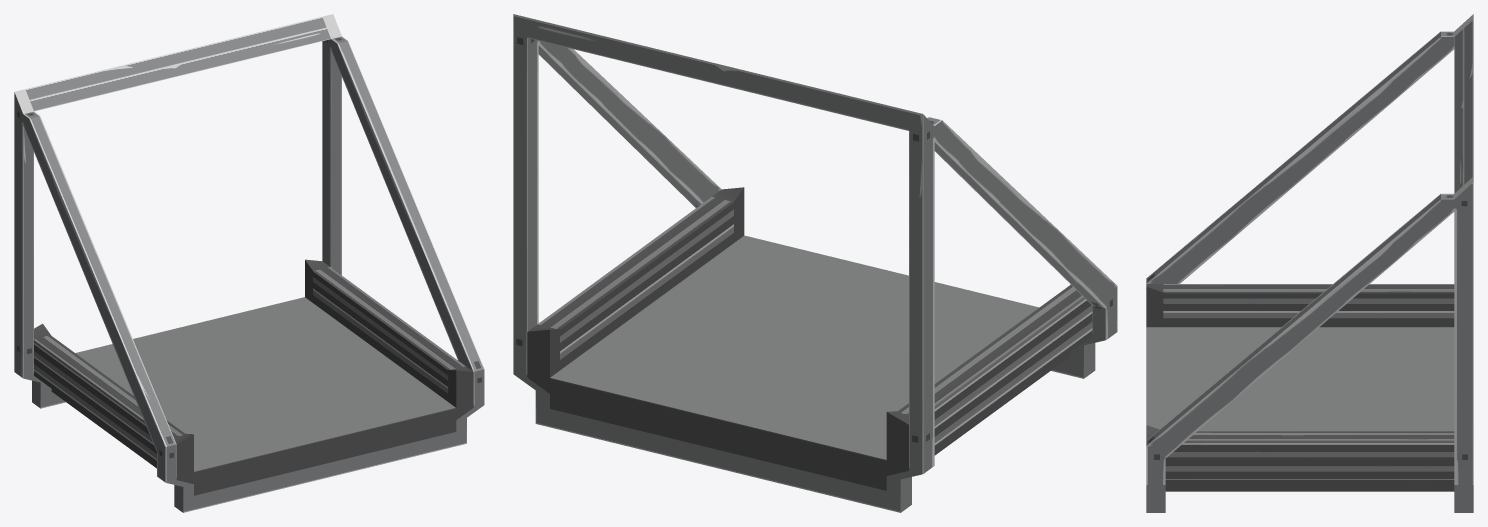
Rendered from Bridge3Start.fbx.
The picture shows the model from 3 angles, left to right: view 1: azimuth 30°, elevation 25°; view 2: azimuth 150°, elevation 25°; view 3: azimuth 270°, elevation 25°; orthographic projection. The views are drawn at different scales.
Visible parts, largest first — view 1: Bridge3Start; view 2: Bridge3Start; view 3: Bridge3Start.
Boxes of the visible parts, x1,y1,x2,y2 form: Bridge3Start: (14,14,484,512); Bridge3Start: (513,14,1117,512); Bridge3Start: (1146,14,1473,512).
Size of the model in its own units: 14.6 by 13.77 by 12.
